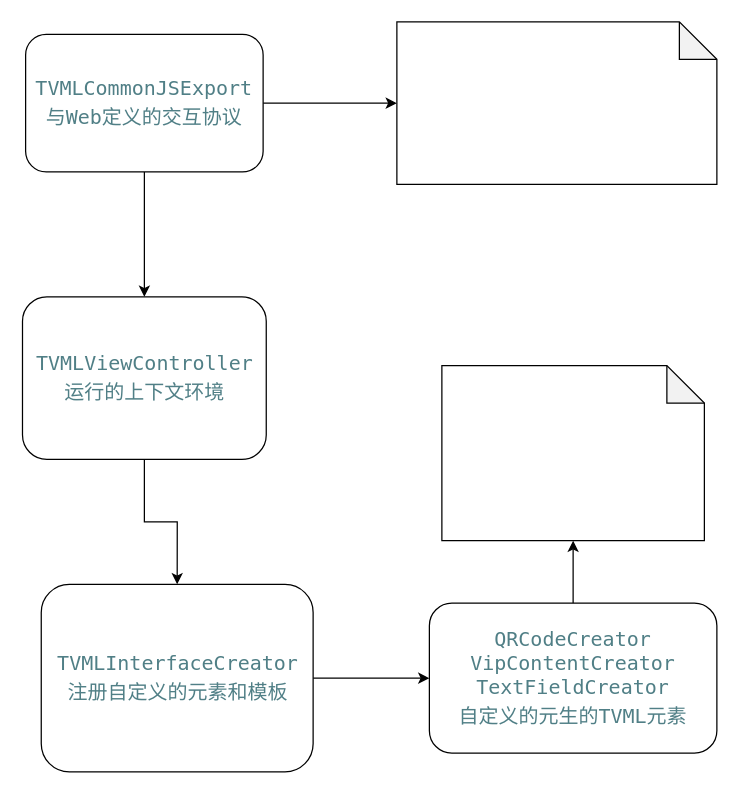
This 739x794 diagram has some shape labels left out. The box of each missing label's shape, as (x1, y1, x2, y2) in pixels:
定义了登录，购买VIP与web交互的数据接口: (396, 21, 717, 184)
定义的原生元素可以在TVMLweb端当做标签使用: (441, 364, 704, 541)
